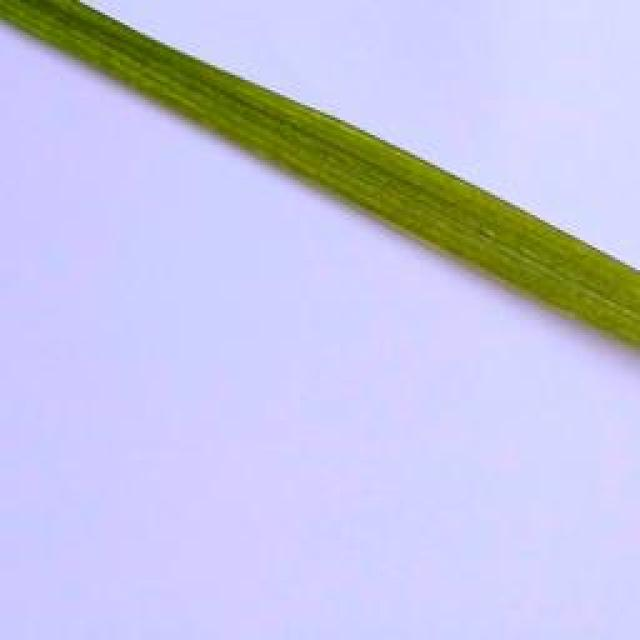Healthy-Plant: (0, 0, 311, 169)
